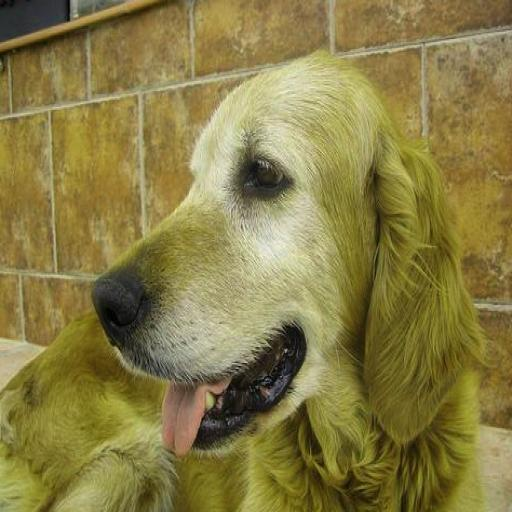dog_face: (98, 55, 469, 450)
